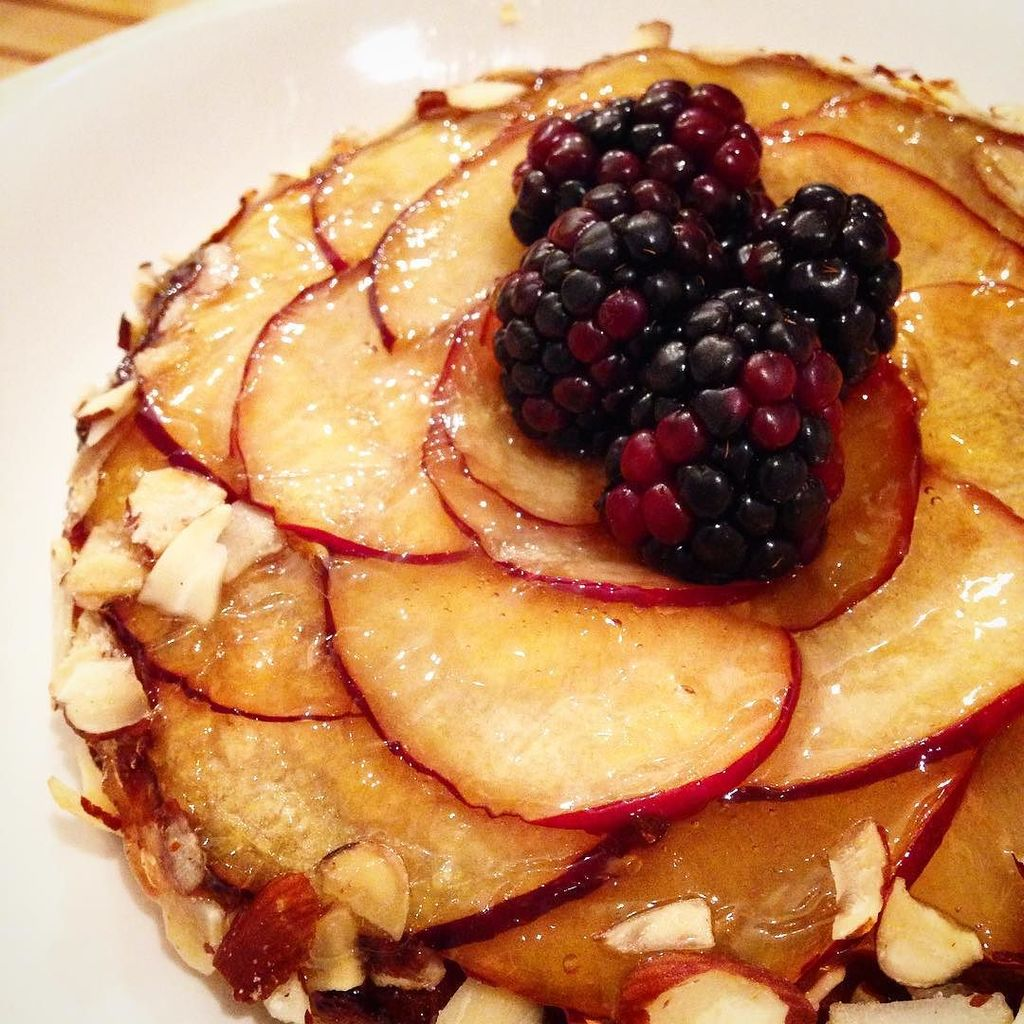Apple: (49, 18, 1023, 1023), (323, 542, 804, 836)
